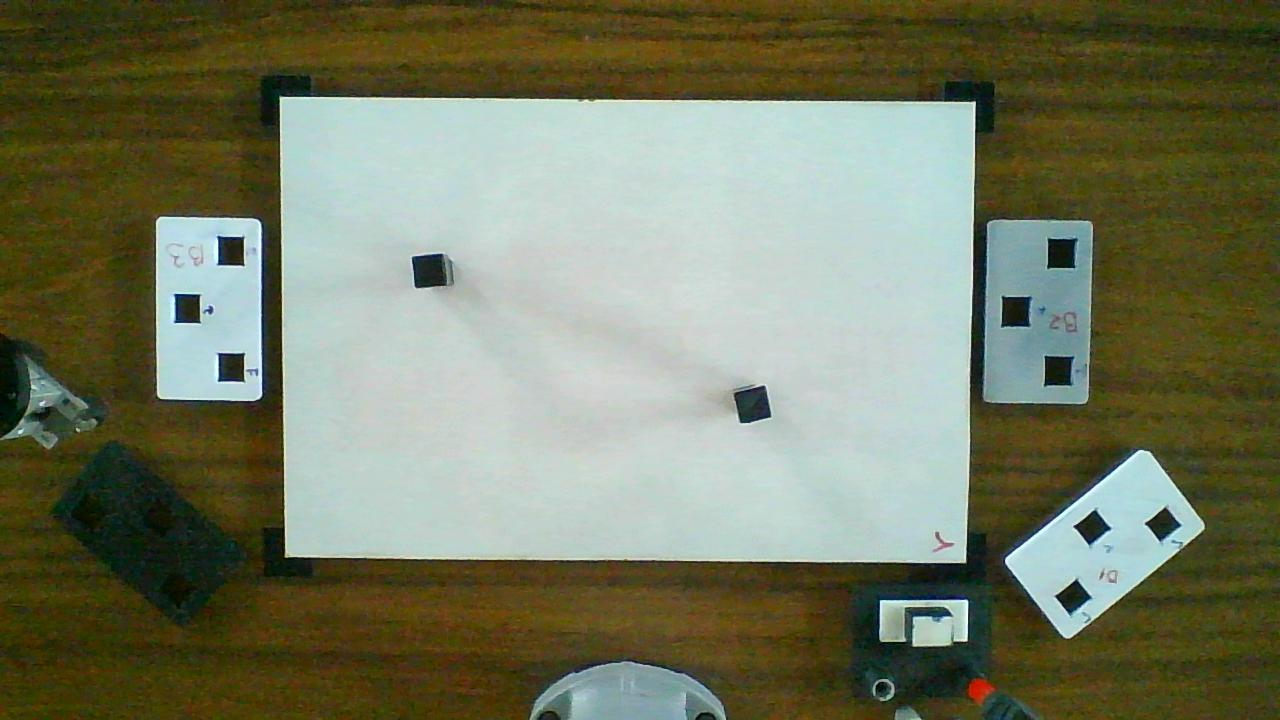peca_preta: (735, 387, 772, 424), (412, 255, 445, 287)
